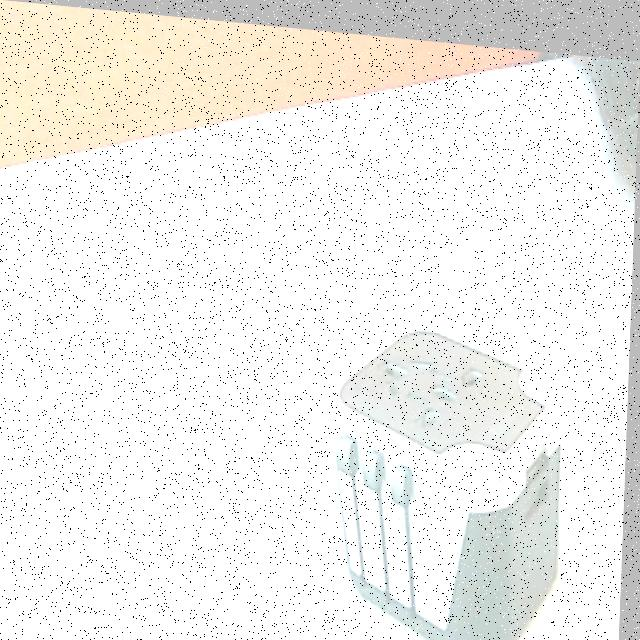adapter: (325, 306, 569, 640)
